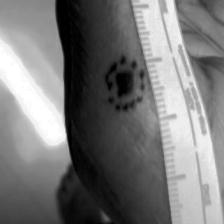Potentially Malignant Skin Tumors: (113, 72, 135, 98)
